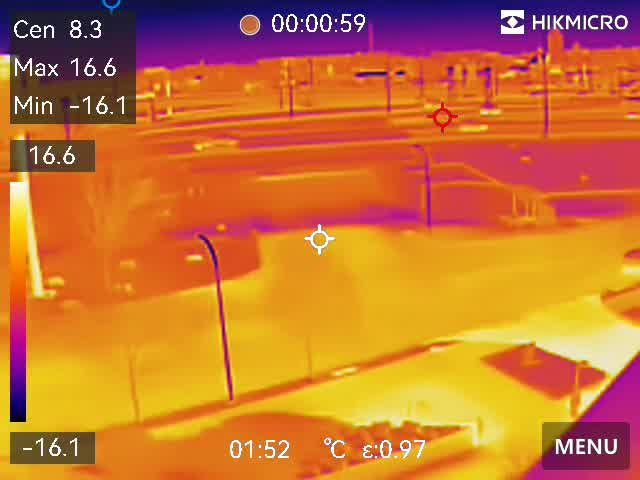vehicle: (456, 117, 491, 136), (475, 99, 507, 118), (423, 96, 448, 114)
